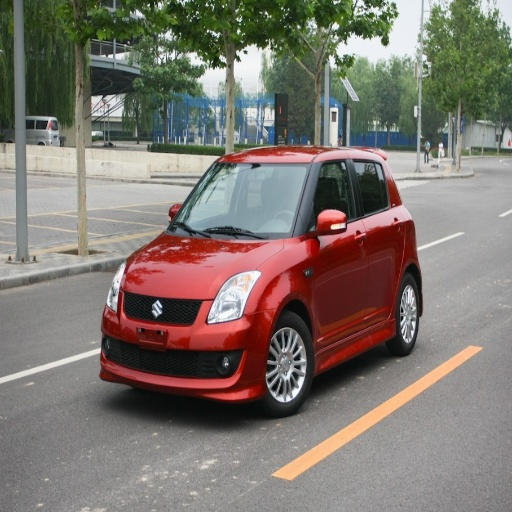front_bumper: (102, 290, 271, 402)
front_glass: (168, 162, 311, 239)
front_left_door: (304, 155, 368, 346)
